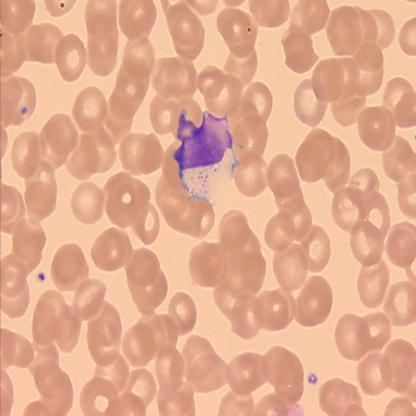Atypical lymphocyte: (172, 106, 246, 206)
